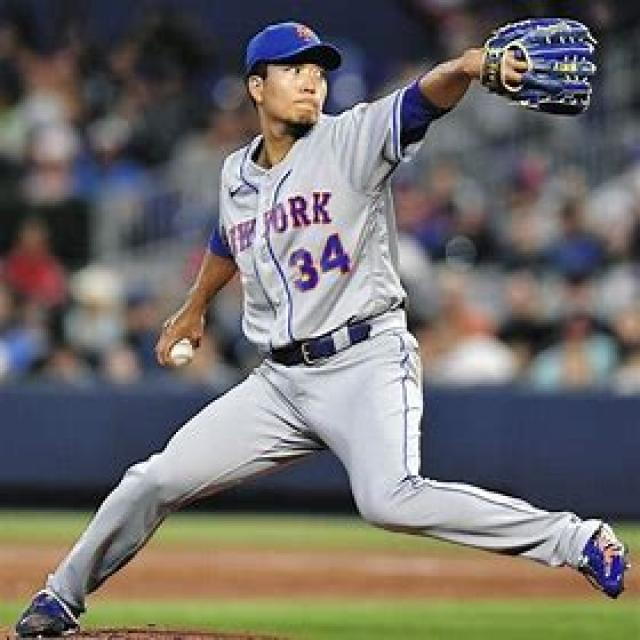glove: (475, 16, 600, 122)
